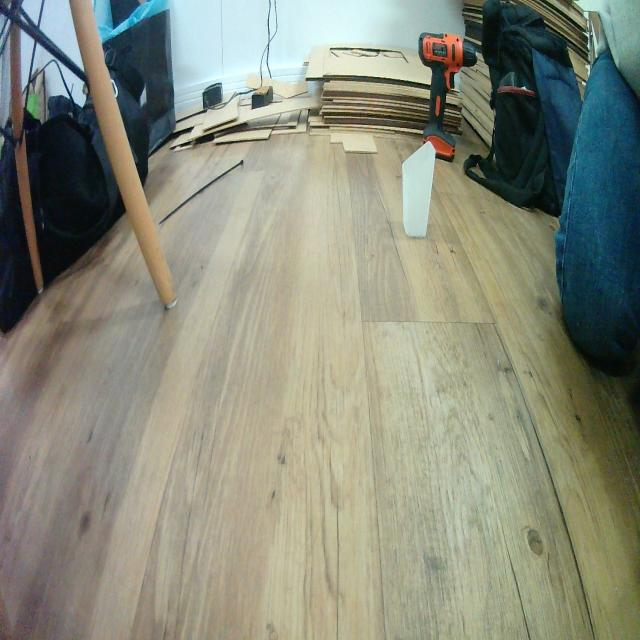erva_daninha: (401, 141, 436, 239)
